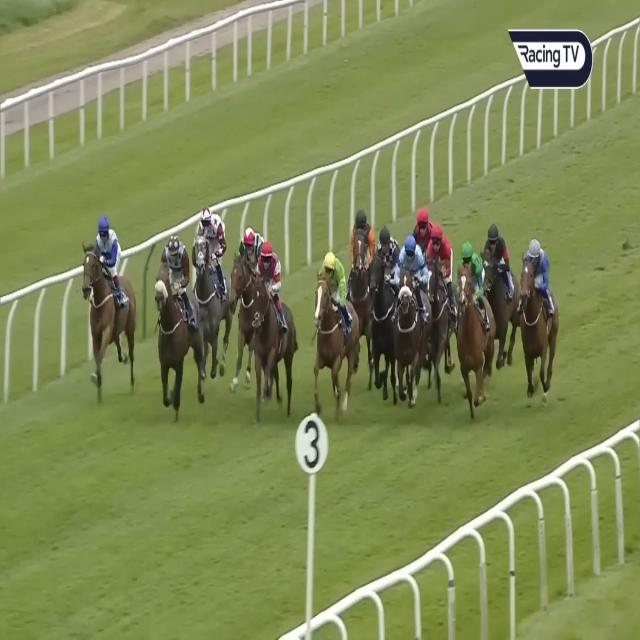horses-racing: (84, 216, 135, 397), (312, 254, 362, 406), (453, 237, 498, 403), (252, 243, 296, 411), (155, 232, 193, 419), (192, 209, 230, 373), (520, 234, 559, 392), (481, 222, 523, 364), (232, 226, 267, 381), (393, 235, 426, 394), (425, 220, 460, 366), (365, 228, 403, 362), (350, 210, 376, 330), (415, 208, 431, 252)
